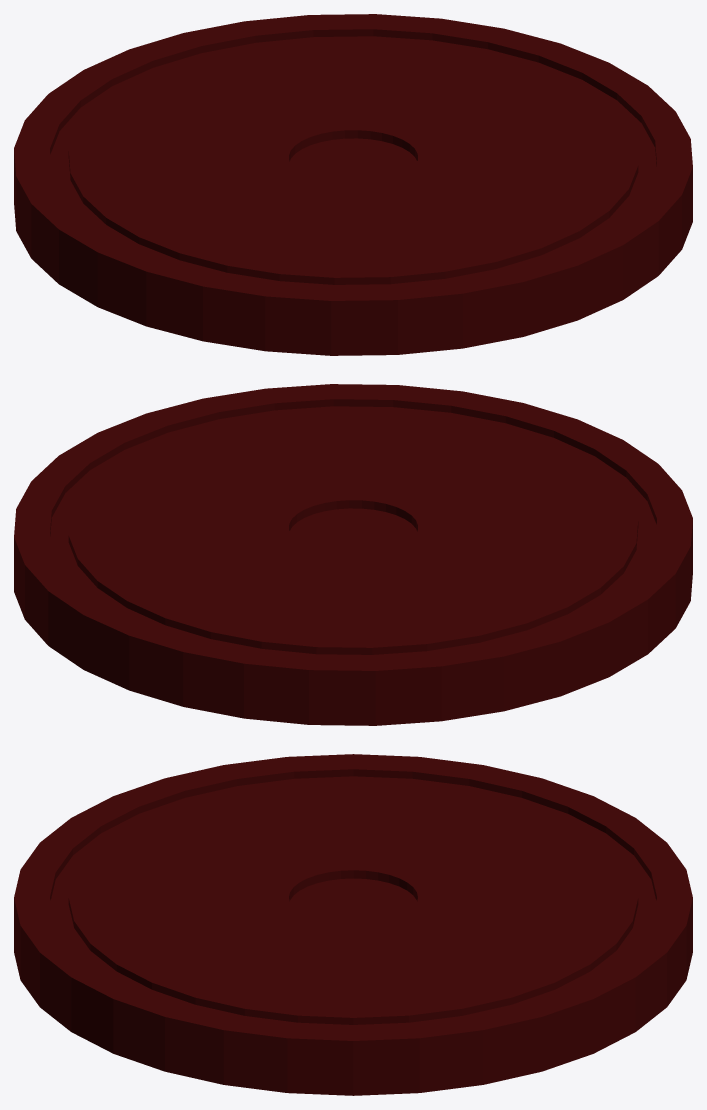
Rendered from piece-b.glb.
3 views of the same model, one above another, from view 1: azimuth 30°, elevation 25°; view 2: azimuth 150°, elevation 25°; view 3: azimuth 270°, elevation 25° (orthographic).
Visible parts, largest first — view 1: Cylinder.001; view 2: Cylinder.001; view 3: Cylinder.001.
Boxes of the visible parts, box(x1,y1,x2,y2) form: Cylinder.001: box(14, 14, 692, 355); Cylinder.001: box(14, 384, 692, 725); Cylinder.001: box(14, 754, 692, 1095).
Size of the model in its own units: 1.13 by 0.1003 by 1.13.
